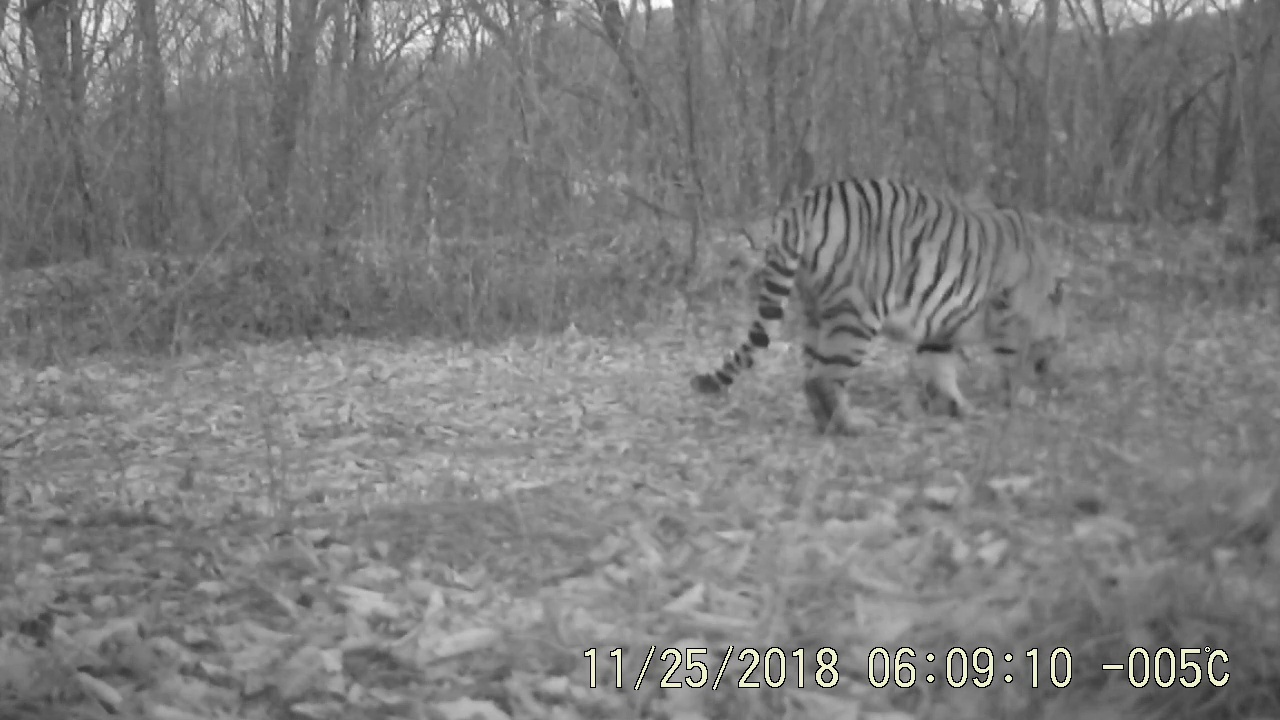Tiger: (651, 143, 1170, 469)
